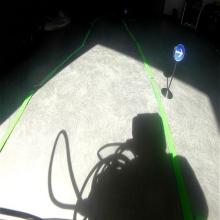right: (172, 43, 186, 62)
